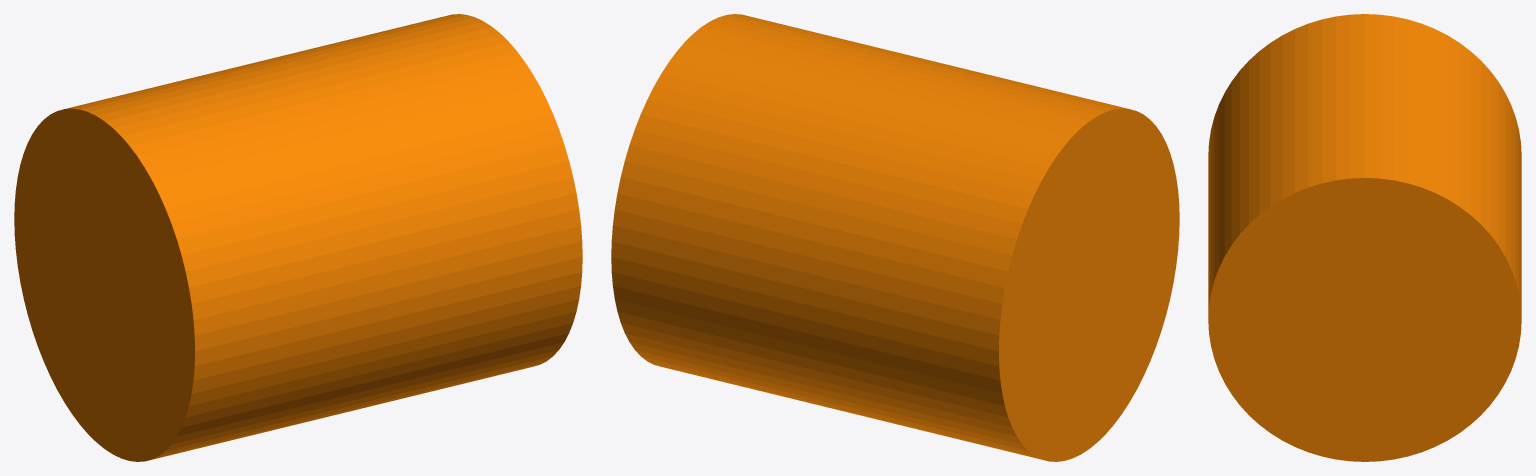
Rendered from sensor_laser.dae.
The picture shows the model from 3 angles, left to right: view 1: azimuth 30°, elevation 25°; view 2: azimuth 150°, elevation 25°; view 3: azimuth 270°, elevation 25°; orthographic projection. The views are drawn at different scales.
Parts seen in each view (by area): view 1: 5df915b55f717b14b485f8df; view 2: 5df915b55f717b14b485f8df; view 3: 5df915b55f717b14b485f8df.
Boxes of the visible parts, bbox=[...] form: 5df915b55f717b14b485f8df: bbox=[14, 14, 582, 461]; 5df915b55f717b14b485f8df: bbox=[611, 14, 1179, 461]; 5df915b55f717b14b485f8df: bbox=[1208, 14, 1521, 461].
Size of the model in its own units: 0.0127 by 0.0103 by 0.0103.
